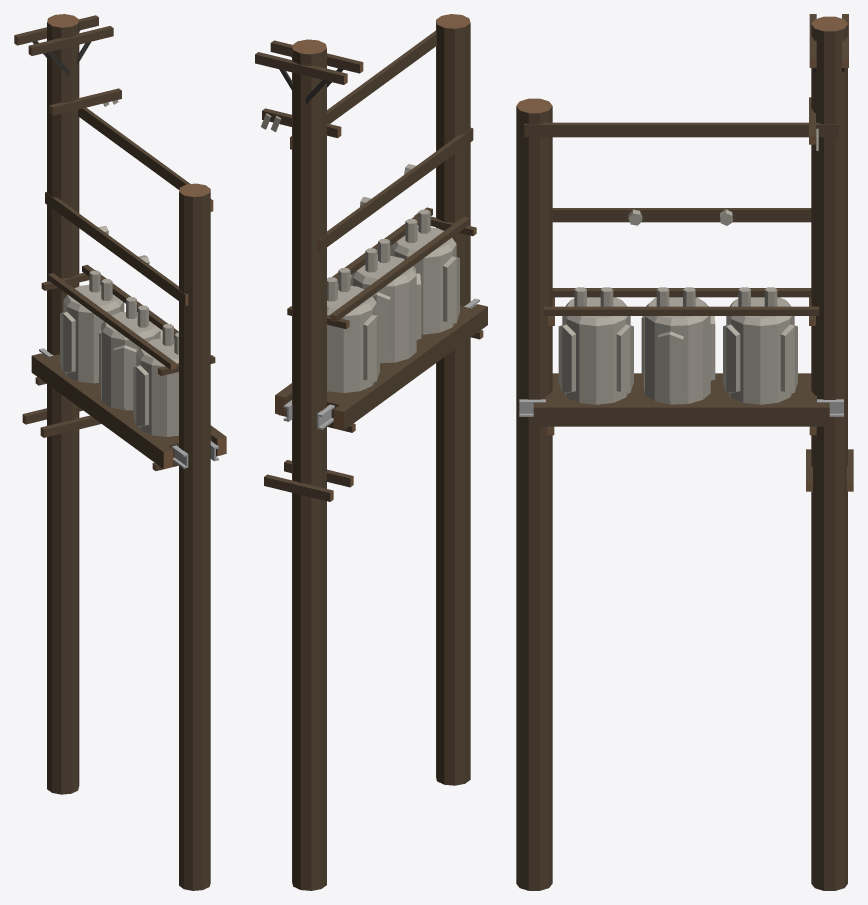
The model's file is SM_utility_pole_2.gltf.
3 renders of one model, left to right at view 1: azimuth 30°, elevation 25°; view 2: azimuth 150°, elevation 25°; view 3: azimuth 270°, elevation 25°, orthographic. The views are drawn at different scales.
Visible parts, largest first — view 1: SM_utility_pole_2; view 2: SM_utility_pole_2; view 3: SM_utility_pole_2.
Boxes of the visible parts, x1,y1,x2,y2 form: SM_utility_pole_2: (14,14,226,890); SM_utility_pole_2: (255,14,487,890); SM_utility_pole_2: (516,14,853,890).
Bounding box in the file's own units: 1.45 × 11.77 × 4.19.
Materials: 1 (1 with a texture image).
